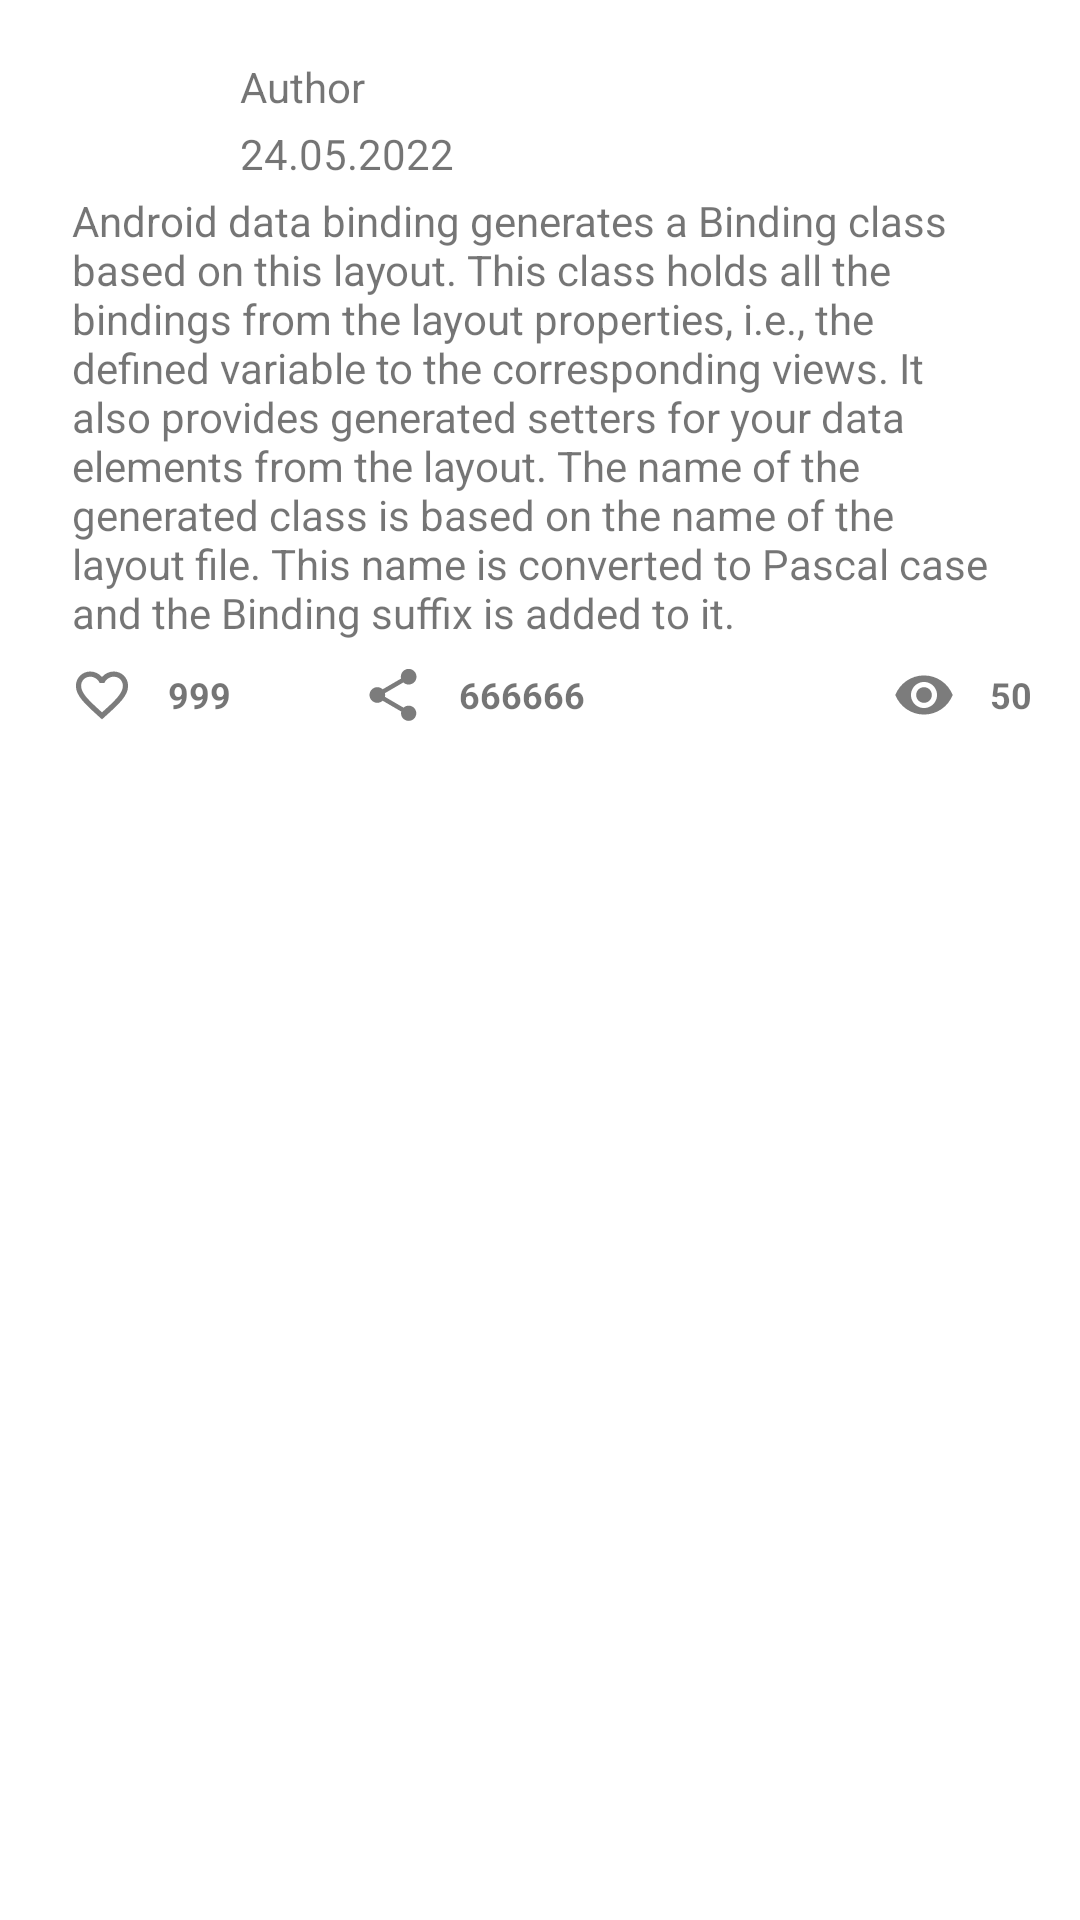

Locate icon controls on the screen. Image size 1080x1920, boxes as (x1, y1, x2, y2).
favorite: (76, 671, 128, 719)
share: (369, 669, 417, 721)
